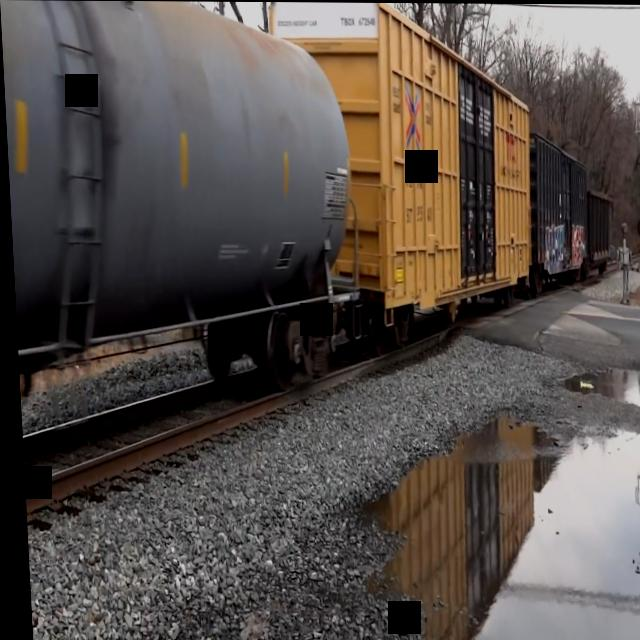boxcar: (315, 2, 541, 353), (530, 126, 594, 294)
tank: (0, 0, 362, 440)
